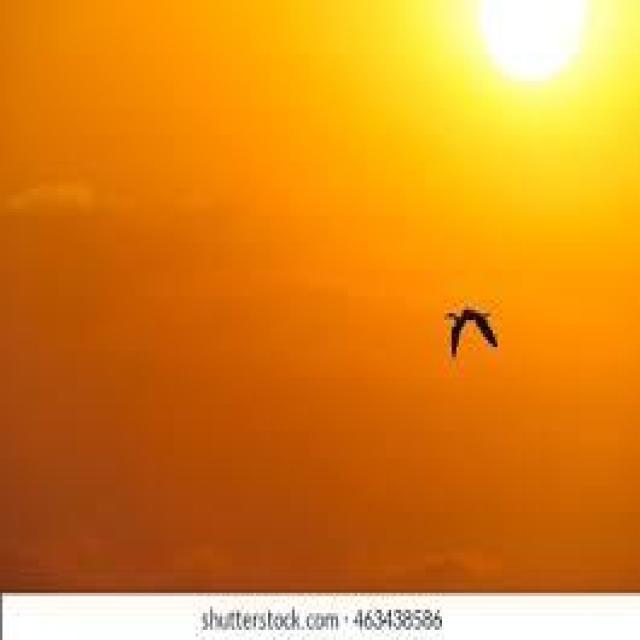bird: (444, 295, 501, 367)
